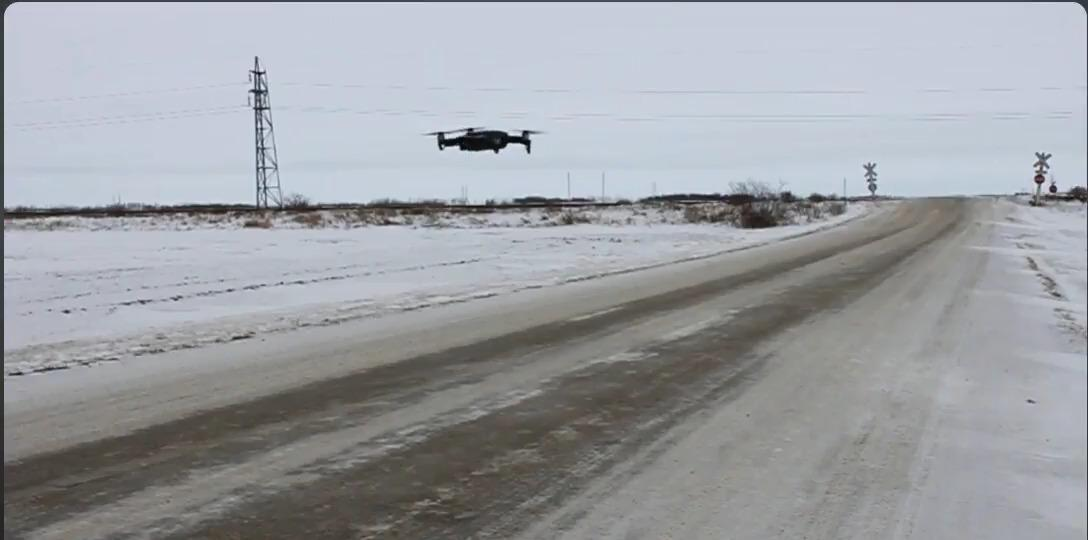dr: (396, 98, 582, 191)
